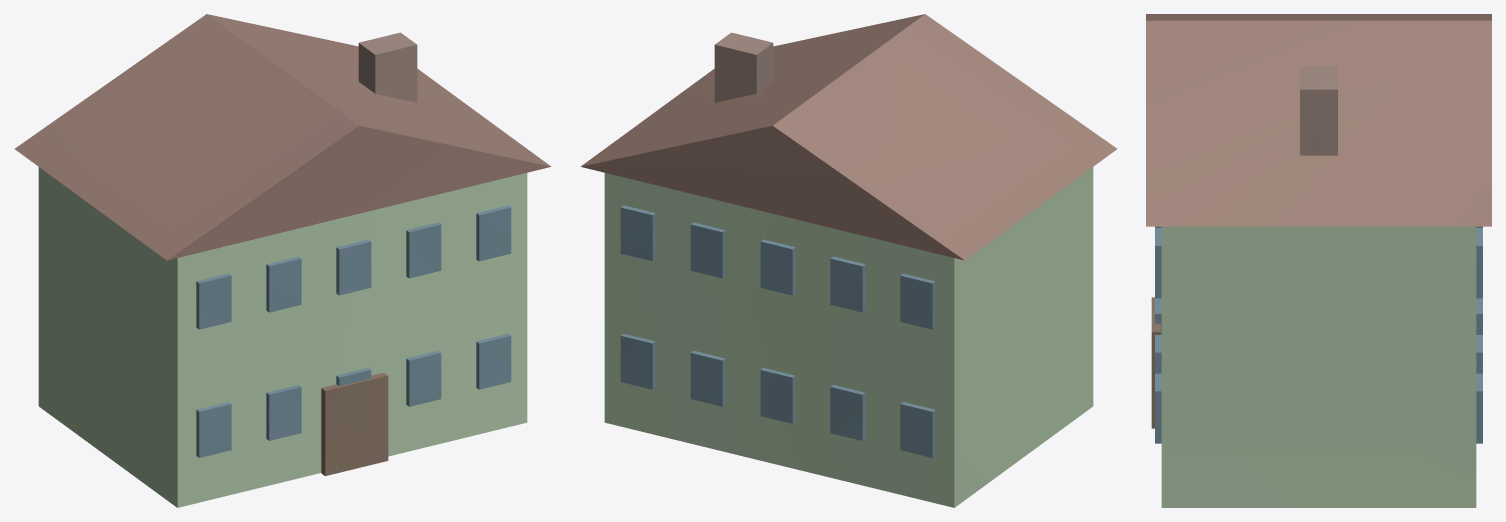
File: barn-02.glb
The picture shows the model from 3 angles, left to right: view 1: azimuth 30°, elevation 25°; view 2: azimuth 150°, elevation 25°; view 3: azimuth 270°, elevation 25°; orthographic projection. The views are drawn at different scales.
Visible parts, largest first — view 1: world; view 2: world; view 3: world.
Part boxes in pixels (x1,y1,x2,y2): world: (15,14,551,507); world: (580,14,1116,507); world: (1146,14,1491,507).
Bounding box in the file's own units: 1.89 × 1.62 × 1.3.
